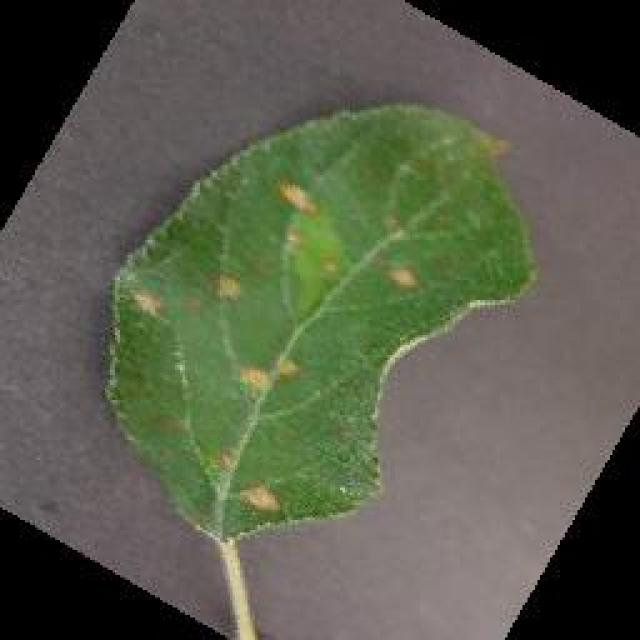apple rust disease: (100, 97, 538, 545)
